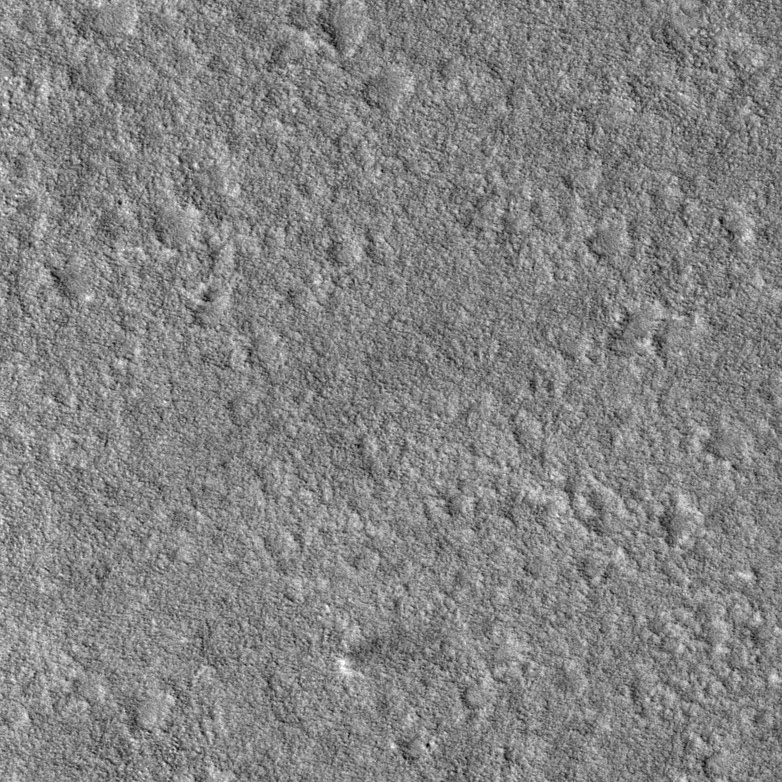dust_devil: (337, 634, 392, 679)
